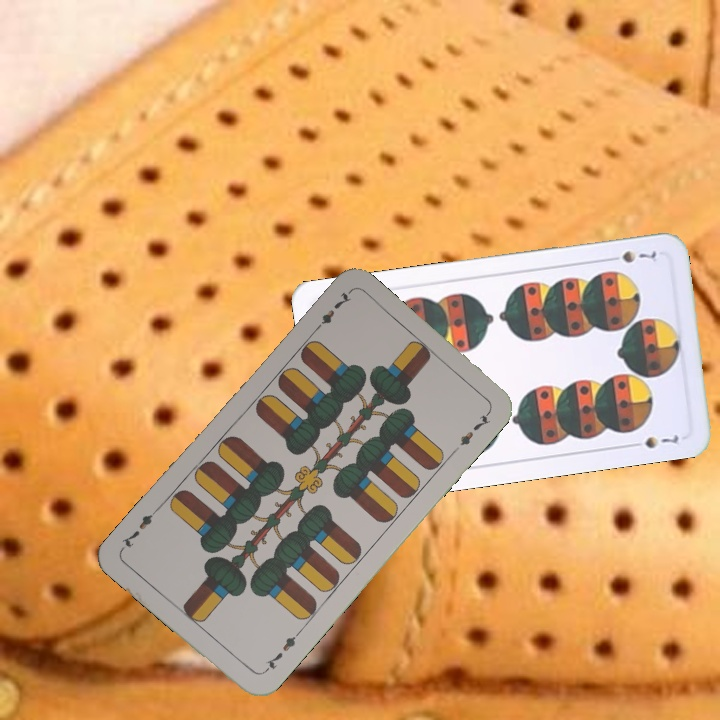E7: (258, 627, 303, 676), (309, 288, 354, 336)
S7: (603, 247, 659, 266)
